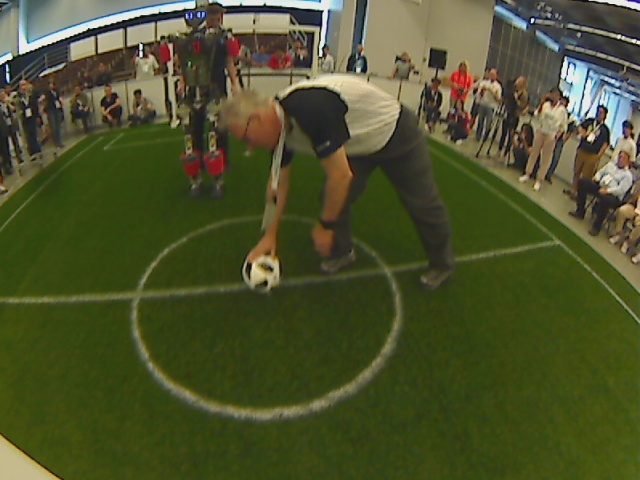ball: (241, 253, 282, 296)
goalpost: (155, 108, 182, 136)
robot: (180, 172, 235, 210)
